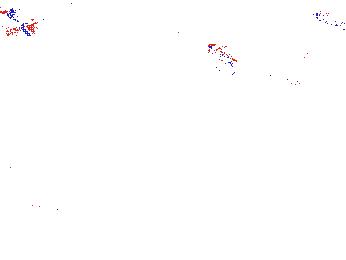X-ray fish: (140, 1, 186, 21)
glassfish: (68, 2, 211, 67)
red belly glassfish: (206, 41, 239, 71)
redtail glassfish: (264, 70, 324, 92), (1, 10, 34, 39), (309, 9, 346, 31), (303, 40, 316, 97)
